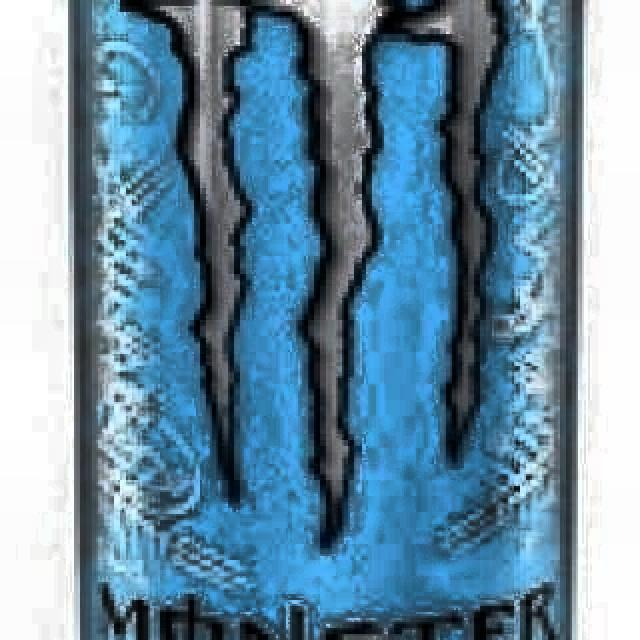metal: (60, 0, 596, 640)
